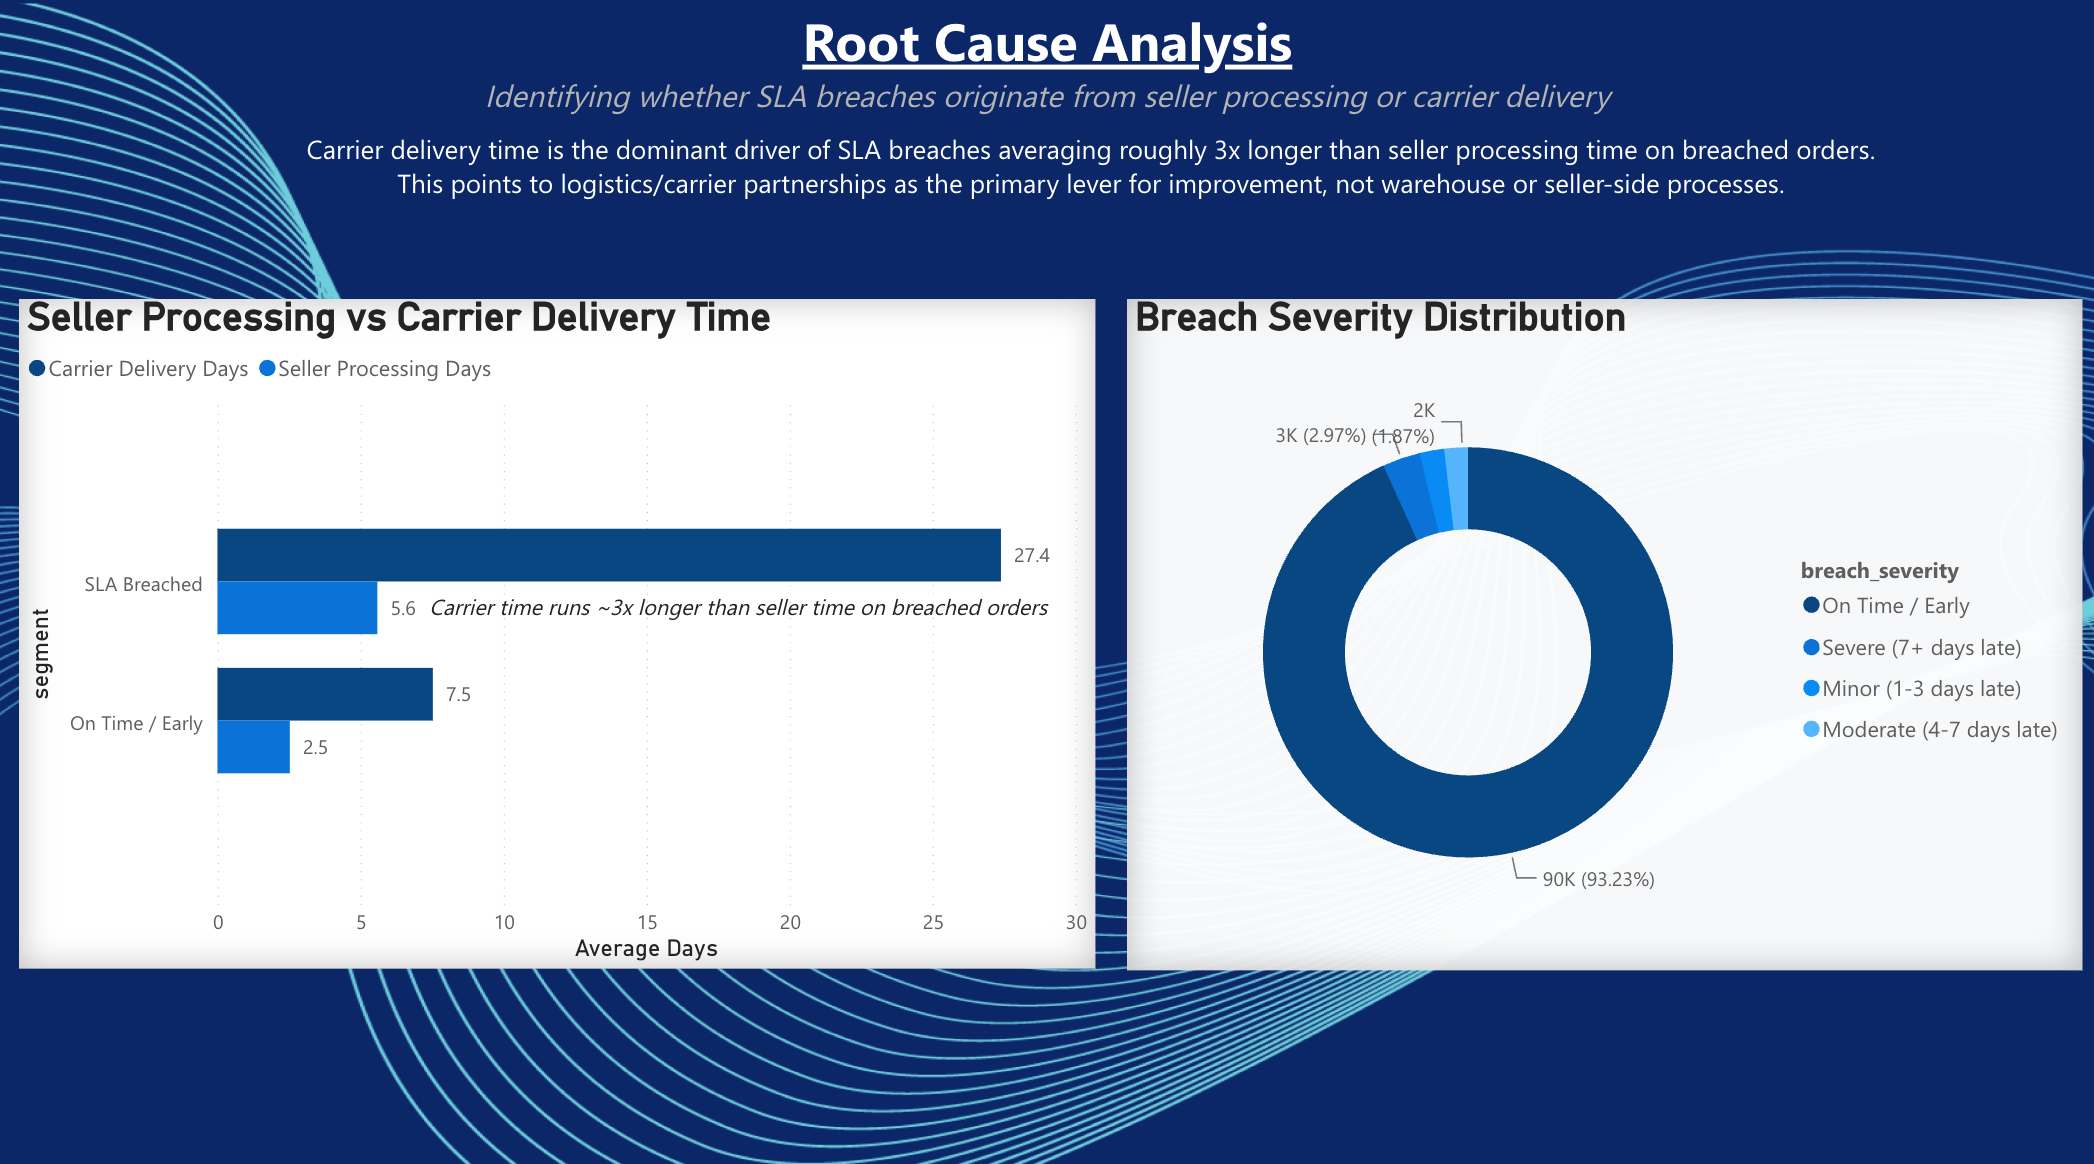

The dashboard page shown, as its layout file describes it:
{"tool":"powerbi","page":{"name":"Root Cause","canvas":[1280,720],"ordinal":1},"visuals":[{"type":"clusteredBarChart","title":"Seller Processing vs Carrier Delivery Time","fields":{"Y":["Sum(seller_carrier_split.avg_carrier_days)","Sum(seller_carrier_split.avg_seller_days)"],"Category":["seller_carrier_split.segment"]},"box":[0,134.8,668.8,410.7],"z":0},{"type":"donutChart","title":"Breach Severity Distribution","fields":{"Category":["severity_breakdown.breach_severity"],"Y":["Sum(severity_breakdown.order_count)"]},"box":[695.4,134.8,584.6,410.7],"z":1},{"type":"textbox","box":[0,31.9,1280,62.1],"z":2}]}

Visuals, with their boxes in screenshot pixels (x1, y1, x2, y2), scaled from the page's 1280x720 canvas onto the 2094x1164 screenshot:
"Seller Processing vs Carrier Delivery Time" clusteredBarChart: (left=0, top=218, right=1094, bottom=882)
"Breach Severity Distribution" donutChart: (left=1138, top=218, right=2093, bottom=882)
textbox: (left=0, top=52, right=2093, bottom=152)
